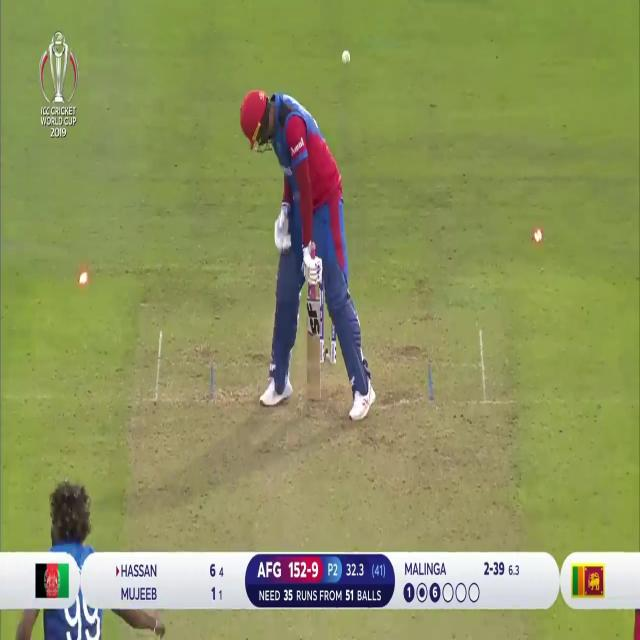ball: (339, 46, 354, 70)
